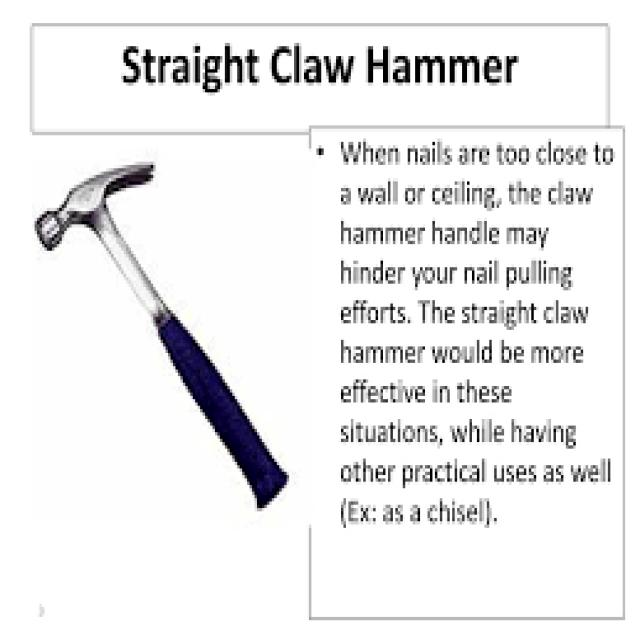hammer: (25, 153, 308, 529)
